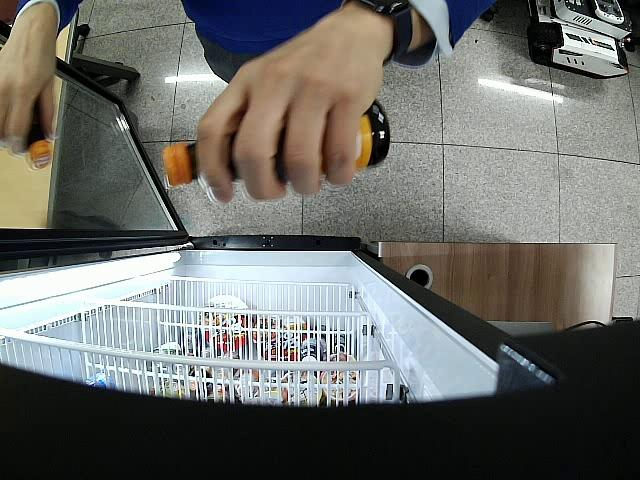00_hand: (198, 21, 389, 206), (2, 2, 63, 155)
17_vita500: (162, 100, 388, 189), (22, 87, 52, 169)
